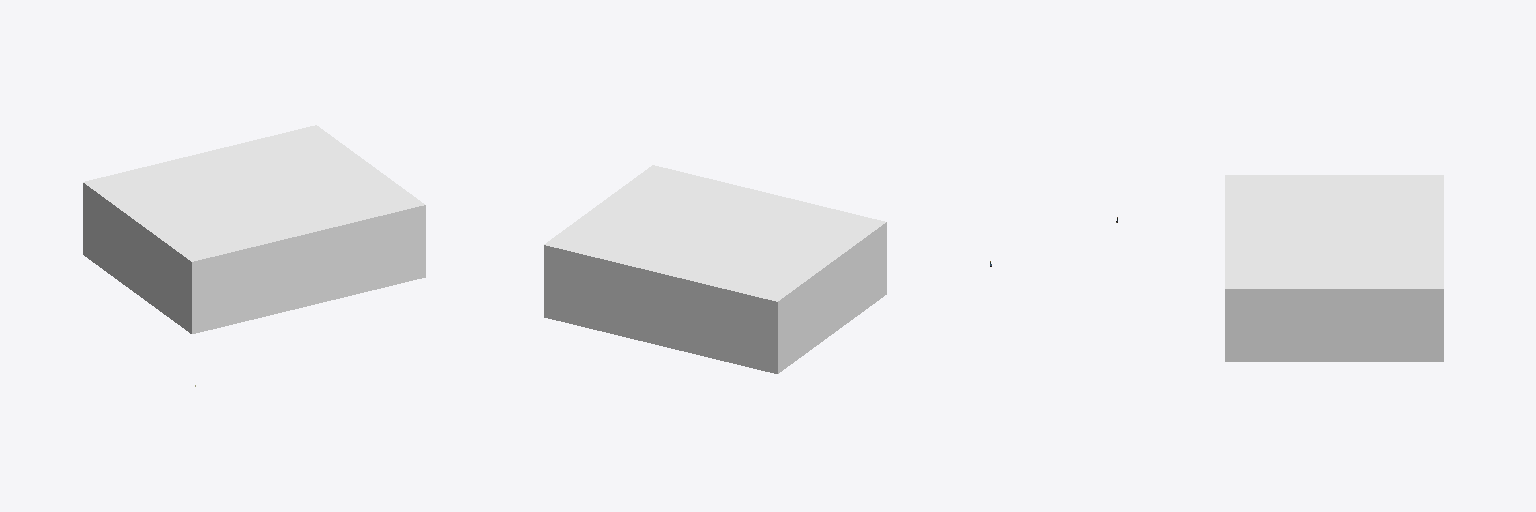
3 renders of one model, left to right at view 1: azimuth 30°, elevation 25°; view 2: azimuth 150°, elevation 25°; view 3: azimuth 270°, elevation 25°, orthographic.
Visible parts, largest first — view 1: Mesh2 Model; view 2: Mesh2 Model; view 3: Mesh2 Model.
Boxes of the visible parts, <box> form: Mesh2 Model: <box>83,125,425,333</box>; Mesh2 Model: <box>544,165,886,373</box>; Mesh2 Model: <box>1225,175,1443,361</box>.
Size of the model in its own units: 75.69 by 18.43 by 75.35.